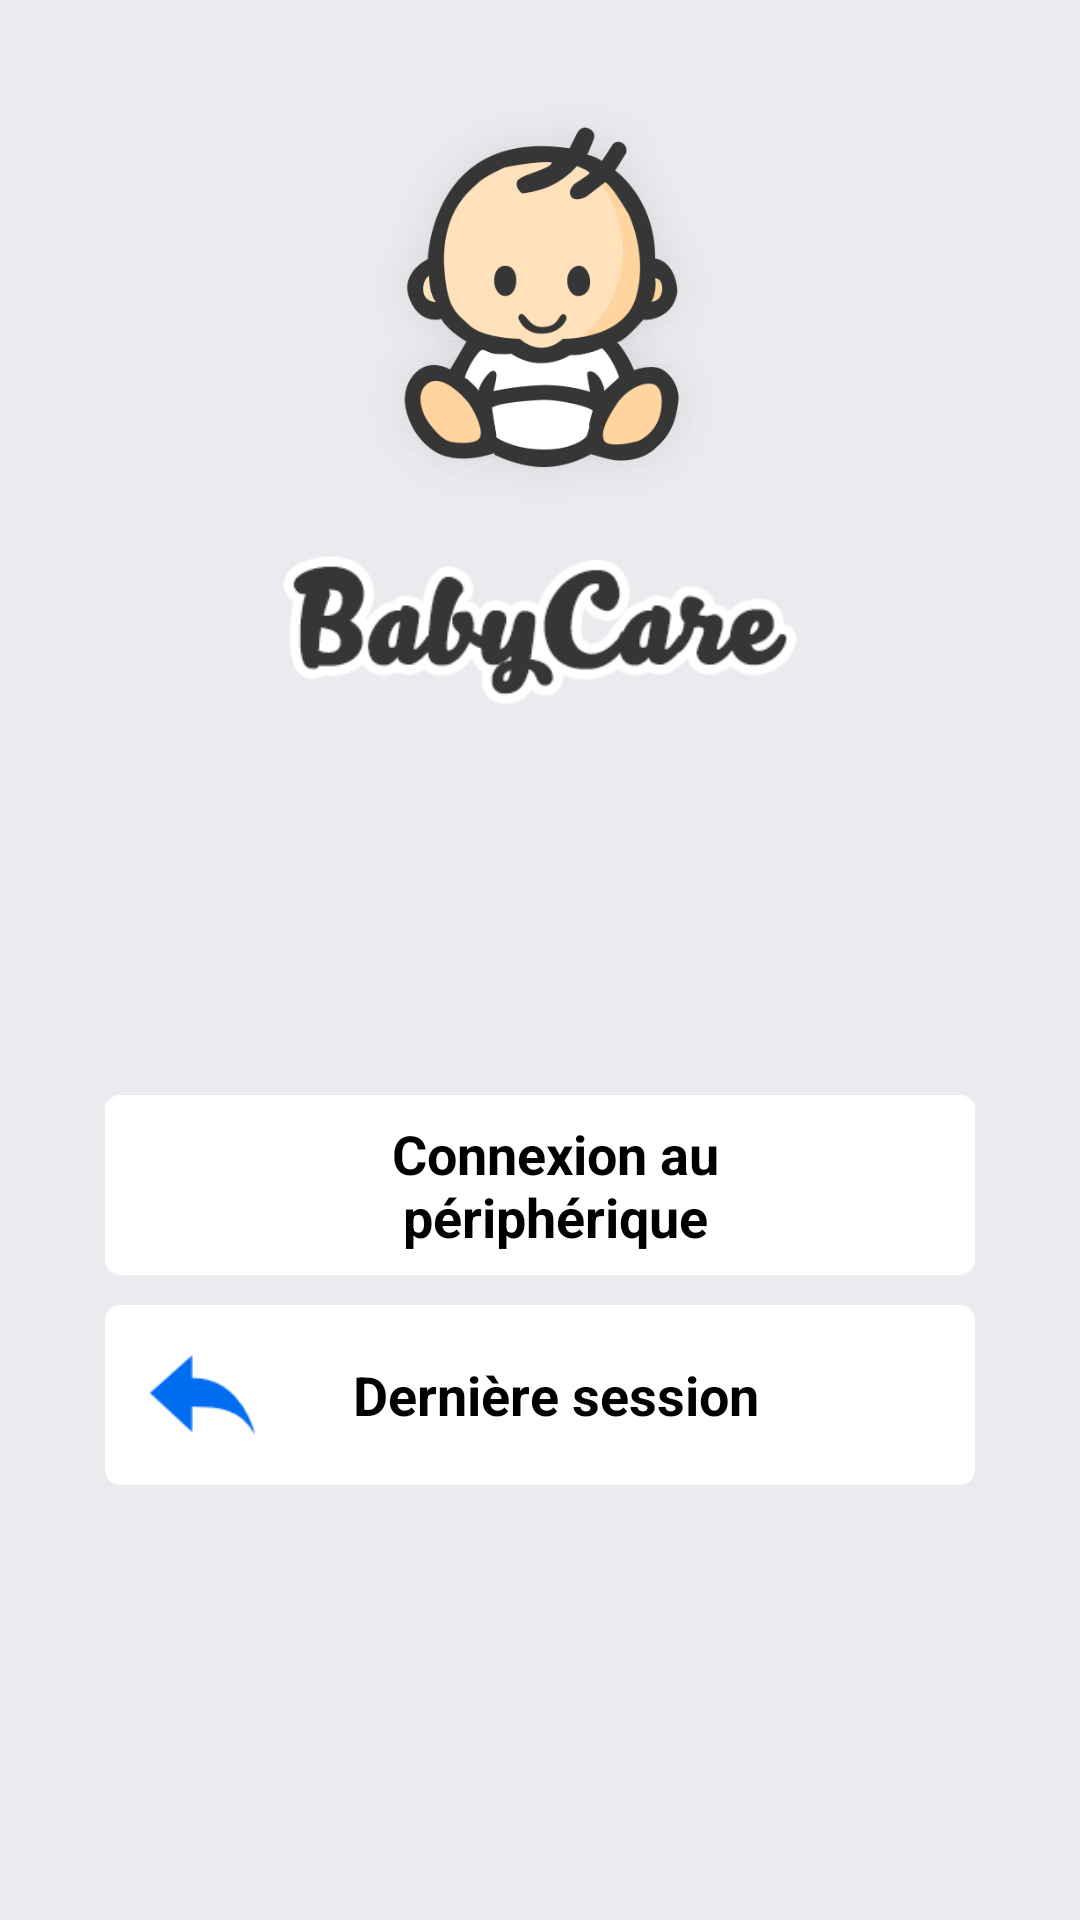

Screen size 1080px×1920px. Icon name, then its box in pixels as (x1,y1,x2,y2):
animation baby: (404,127,679,467)
